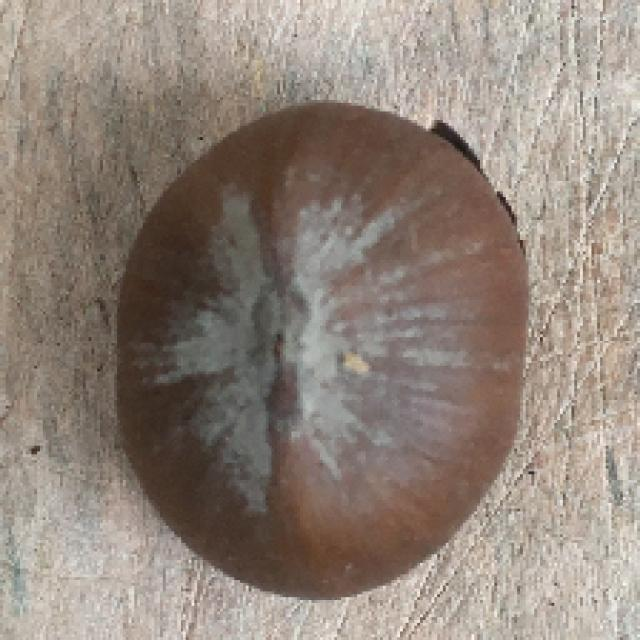damagedHazelnut: (112, 102, 530, 601)
